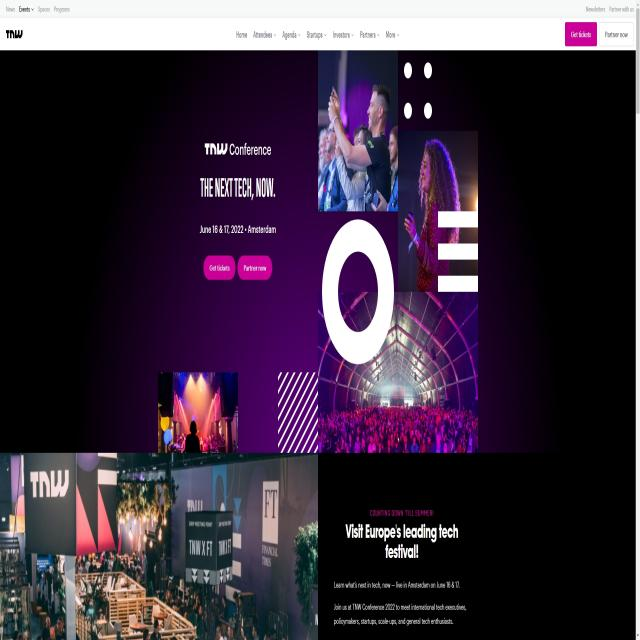menu-bar: (562, 24, 632, 45)
tab-bar: (231, 25, 399, 47)
